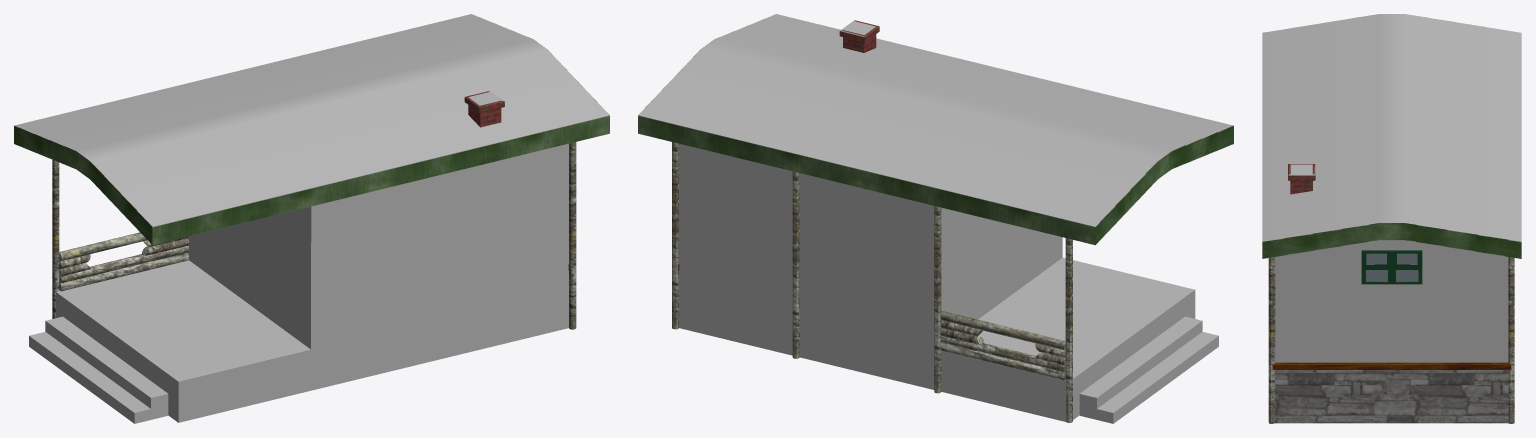
File: gino.fbx
3 views of the same model, side by side, from view 1: azimuth 30°, elevation 25°; view 2: azimuth 150°, elevation 25°; view 3: azimuth 270°, elevation 25° (orthographic). The views are drawn at different scales.
Parts seen in each view (by area): view 1: polySurface38; view 2: polySurface38; view 3: polySurface38.
Part boxes in pixels (x1=…): polySurface38: x1=14, y1=14, x2=609, y2=423; polySurface38: x1=638, y1=14, x2=1233, y2=423; polySurface38: x1=1262, y1=14, x2=1521, y2=423.
Size of the model in its own units: 2.51 by 1.23 by 1.31.
